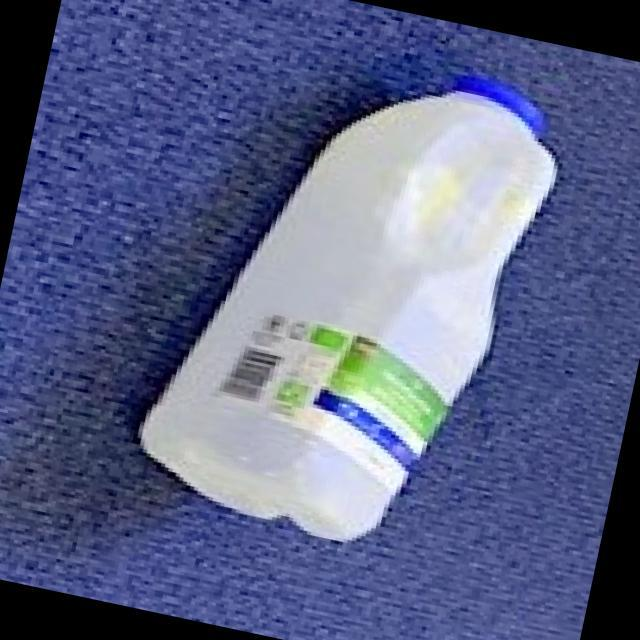HDPE Plastic: (132, 72, 564, 548)
